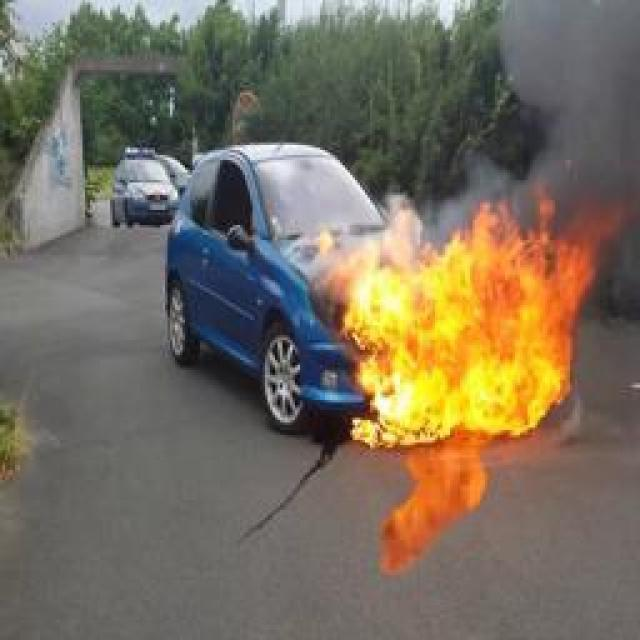Fire: (320, 190, 640, 448)
